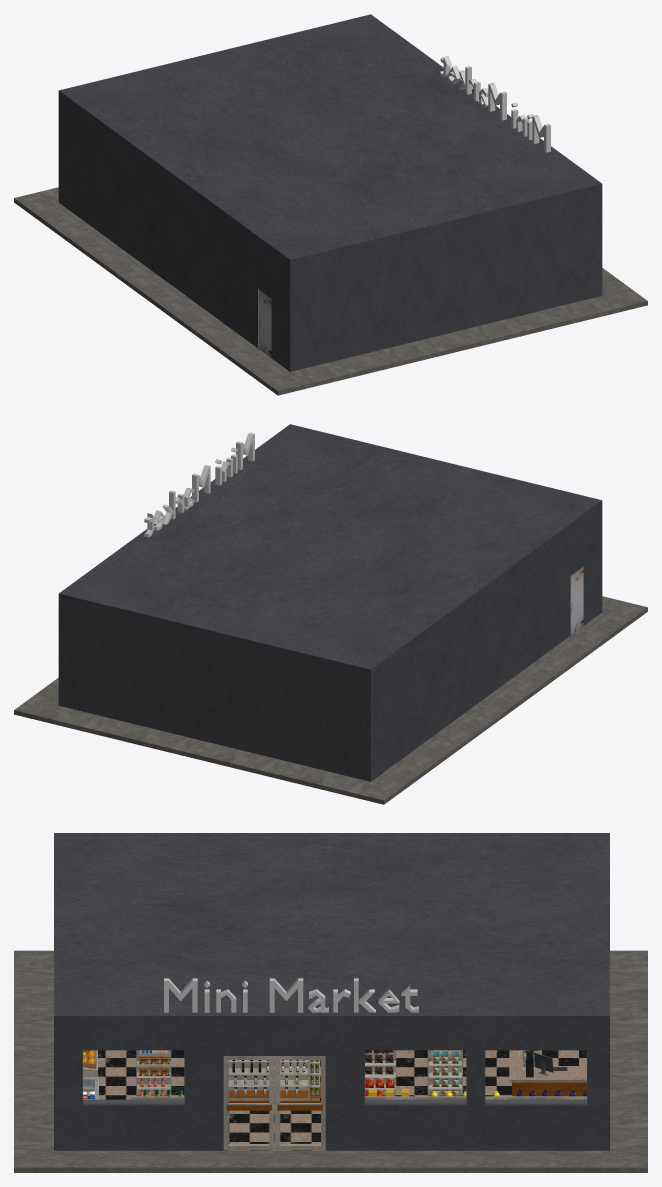
File: mini_market.fbx
3 views of the same model, one above another, from view 1: azimuth 30°, elevation 25°; view 2: azimuth 150°, elevation 25°; view 3: azimuth 270°, elevation 25° (orthographic). The views are drawn at different scales.
Parts seen in each view (by area): view 1: Material_013-material, Material_003-material, Material_043-material_8, Material_042-material; view 2: Material_013-material, Material_003-material, Material_043-material_8, Material_042-material; view 3: Material_013-material, Material_003-material, Material_011-material, Material_043-material_8, Material_008-material_18, Material_001-material, Material_008-material_1, Material_008-material_24, Material-material_1, Material_008-material_7, Material_008-material_19, Material_007-material_3 (+2 smaller).
Boxes of the visible parts, <box> form: Material_013-material: <box>58,14,602,371</box>; Material_003-material: <box>14,187,647,395</box>; Material_043-material_8: <box>440,55,550,152</box>; Material_042-material: <box>258,289,271,357</box>; Material_013-material: <box>58,424,602,781</box>; Material_003-material: <box>14,596,647,804</box>; Material_043-material_8: <box>144,432,254,537</box>; Material_042-material: <box>570,566,583,634</box>; Material_013-material: <box>54,833,609,1150</box>; Material_003-material: <box>14,950,647,1172</box>; Material_011-material: <box>98,1050,586,1150</box>; Material_043-material_8: <box>164,978,418,1012</box>; Material_008-material_18: <box>228,1060,320,1101</box>; Material_001-material: <box>82,1050,587,1104</box>; Material_008-material_1: <box>223,1056,274,1150</box>; Material_008-material_24: <box>275,1056,325,1150</box>; Material-material_1: <box>509,1050,586,1082</box>; Material_008-material_7: <box>427,1050,462,1094</box>; Material_008-material_19: <box>136,1050,171,1094</box>; Material_007-material_3: <box>512,1082,586,1096</box>.
Size of the model in its own units: 76.7 by 28.31 by 94.76.
Materials: 44 (43 with a texture image).
